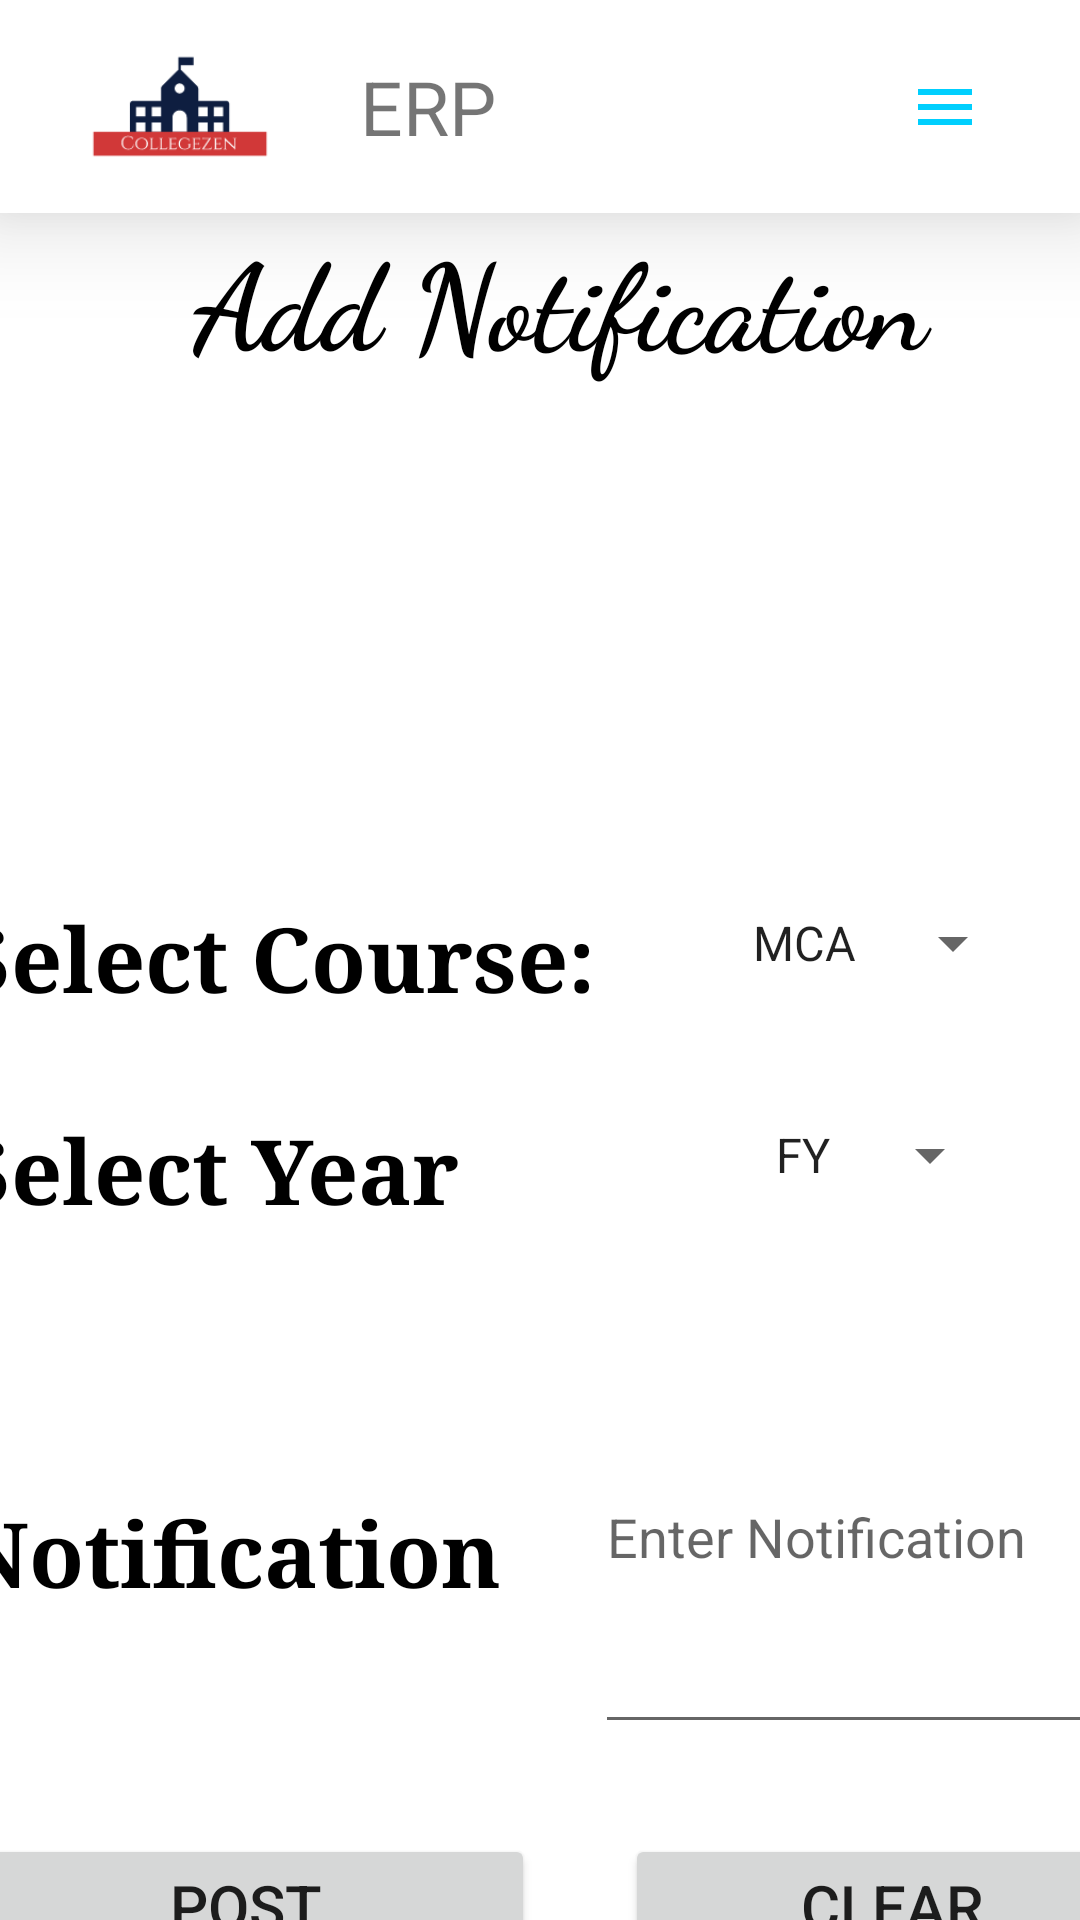

Where to tap for icons on this 1080w x 1920h app screen, as point (x, y):
menu: point (945, 107)
